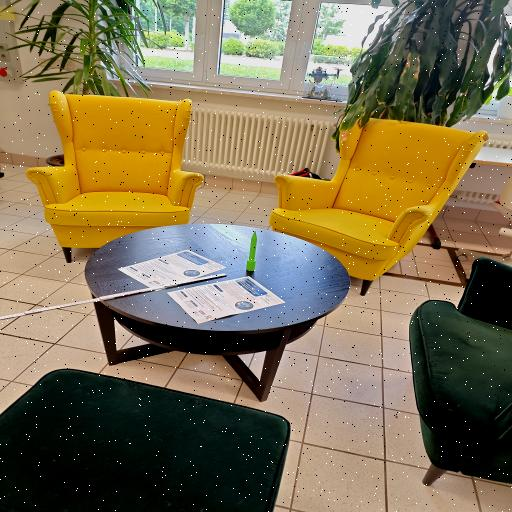Probe-Detection: (246, 231, 257, 272)
